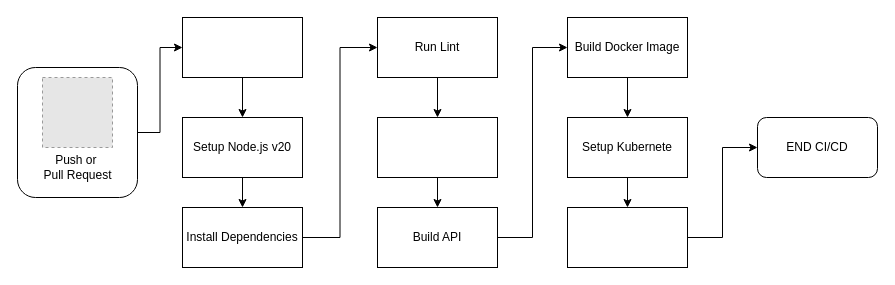
The diagram is 895 pixels wide and 285 high, and some of its shapes have lost their labels. Grey dashed boxes stand in for pictures. Here are the shapes that lost their labels. From the top down, the centre of each, then its label:
At point (242, 47): "Code Checkout".
At point (437, 147): "Run Test".
At point (627, 237): "Deploy Kubernete".
